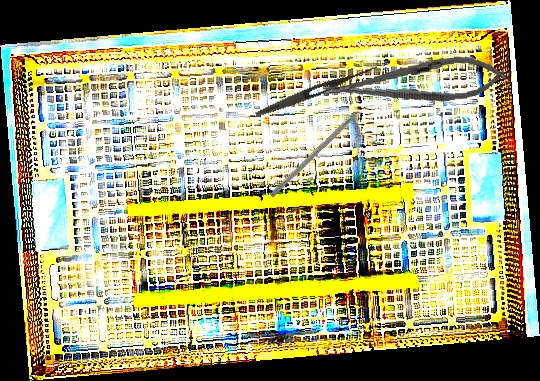Chopper: (269, 101, 374, 204)
Dressing Forceps: (253, 60, 380, 121)
Needle Holder: (321, 52, 508, 112)
